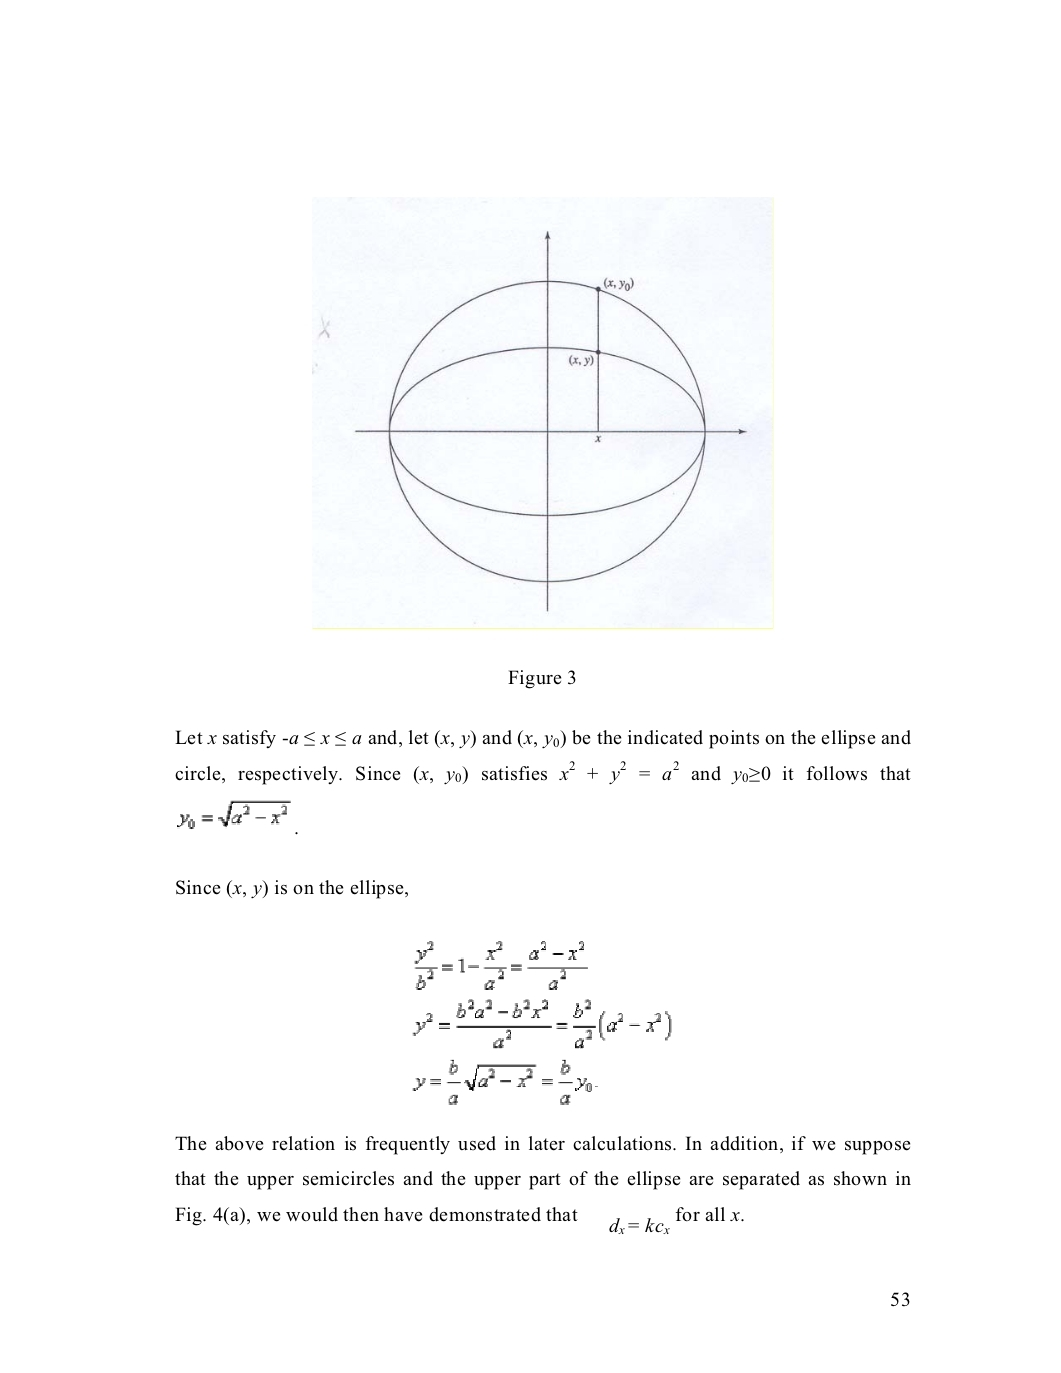figure: (312, 230, 773, 612)
formula: (412, 999, 671, 1049), (412, 1058, 597, 1106), (413, 939, 587, 990), (177, 800, 296, 834)
